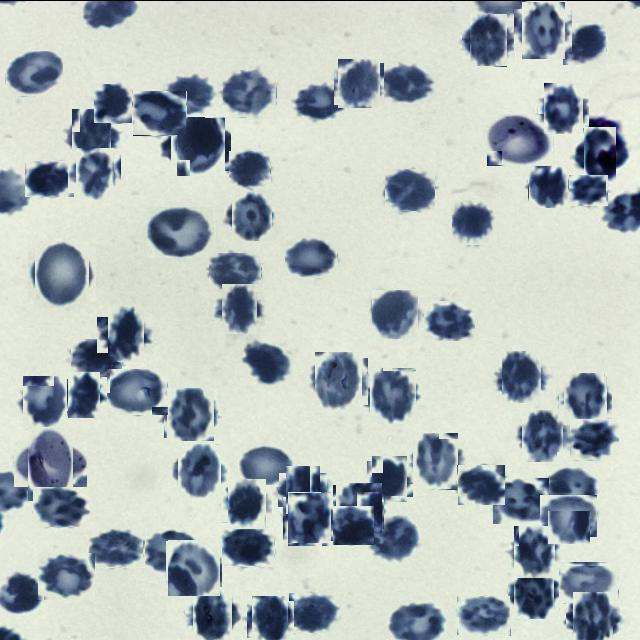red blood cell: (32, 243, 92, 304), (20, 433, 80, 492), (147, 206, 214, 258), (167, 539, 221, 594), (174, 119, 228, 173), (106, 368, 168, 415), (312, 354, 365, 407), (38, 552, 96, 600), (367, 368, 419, 421), (409, 435, 462, 486), (6, 50, 64, 96), (223, 69, 277, 117), (493, 477, 549, 523), (518, 4, 568, 55), (370, 513, 423, 561), (559, 561, 619, 603), (166, 388, 216, 438), (544, 490, 594, 540), (143, 528, 199, 572), (133, 90, 187, 135), (547, 466, 602, 510), (175, 446, 224, 495), (285, 493, 334, 542), (236, 444, 292, 486), (562, 374, 610, 422), (189, 590, 237, 638), (21, 377, 69, 425), (334, 483, 382, 531), (159, 74, 215, 115), (33, 486, 90, 526), (372, 290, 419, 338), (511, 528, 558, 575), (520, 411, 566, 459), (510, 570, 558, 616), (89, 528, 145, 567), (68, 111, 114, 158), (457, 595, 511, 635), (381, 62, 434, 102), (285, 237, 338, 277), (222, 526, 275, 566), (499, 353, 545, 399), (466, 16, 512, 62), (336, 60, 382, 106), (540, 84, 586, 130), (72, 150, 118, 196), (102, 310, 148, 356), (570, 595, 617, 640), (385, 168, 435, 210), (568, 418, 618, 460), (229, 192, 274, 238), (242, 341, 292, 382), (295, 80, 346, 120), (424, 300, 475, 340), (289, 592, 340, 632), (209, 252, 262, 290), (71, 338, 122, 376), (224, 481, 268, 525), (578, 132, 622, 176), (456, 464, 504, 504), (452, 200, 496, 243), (218, 287, 261, 330), (563, 22, 606, 64), (25, 160, 74, 196), (250, 598, 292, 640), (282, 468, 324, 510), (528, 166, 569, 207), (370, 458, 410, 498), (64, 374, 104, 414), (333, 505, 374, 544), (229, 150, 271, 188), (94, 83, 133, 123), (568, 174, 608, 206)
ring: (487, 113, 554, 165)
